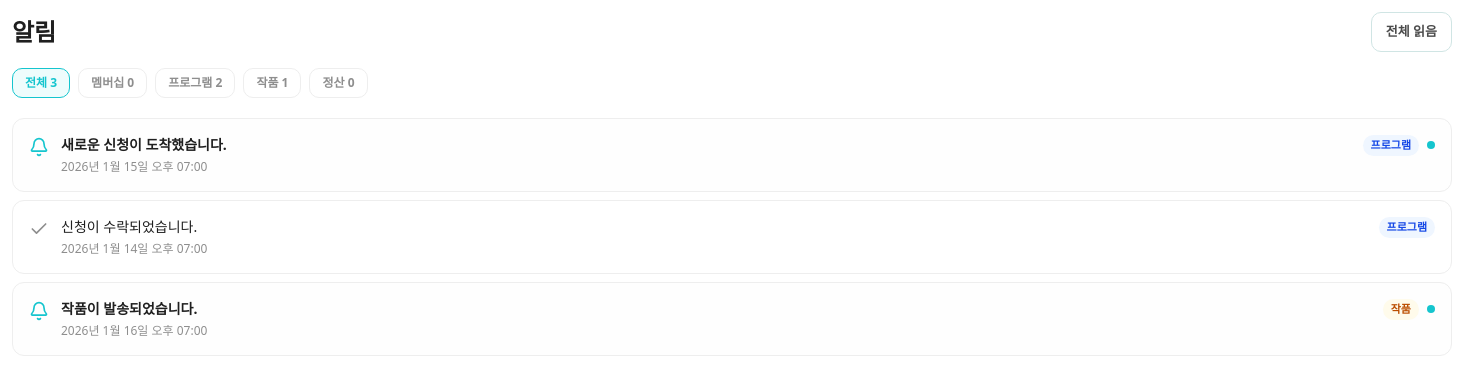
Test: NotificationList (FR-014, AC-006) › 카테고리에 알림이 없으면 빈 상태를 렌더링한다
Click the button "정산 0" at [339, 83], box [310,68,368,98]
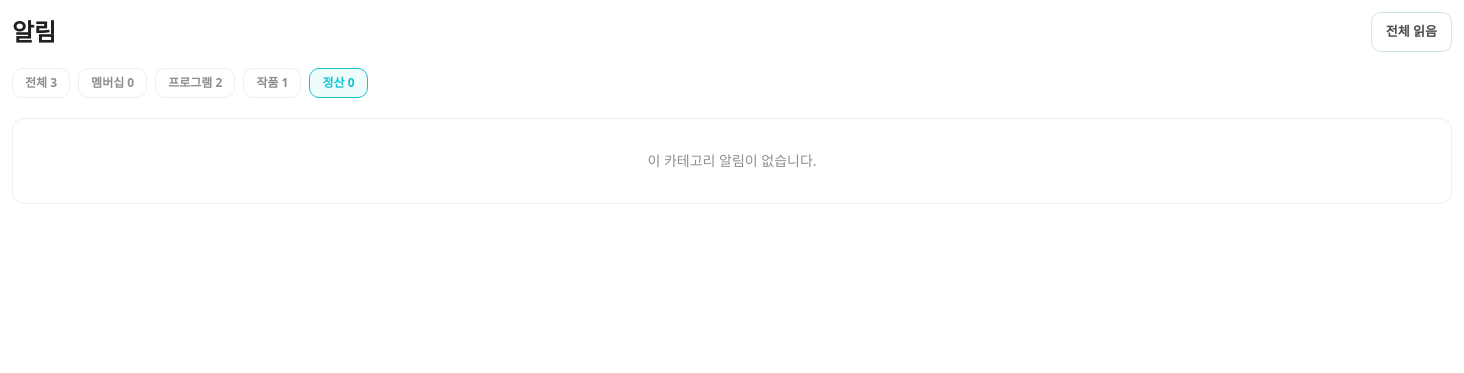
Result: the text "이 카테고리 알림이 없습니다." is shown at [12,118,1452,204]
